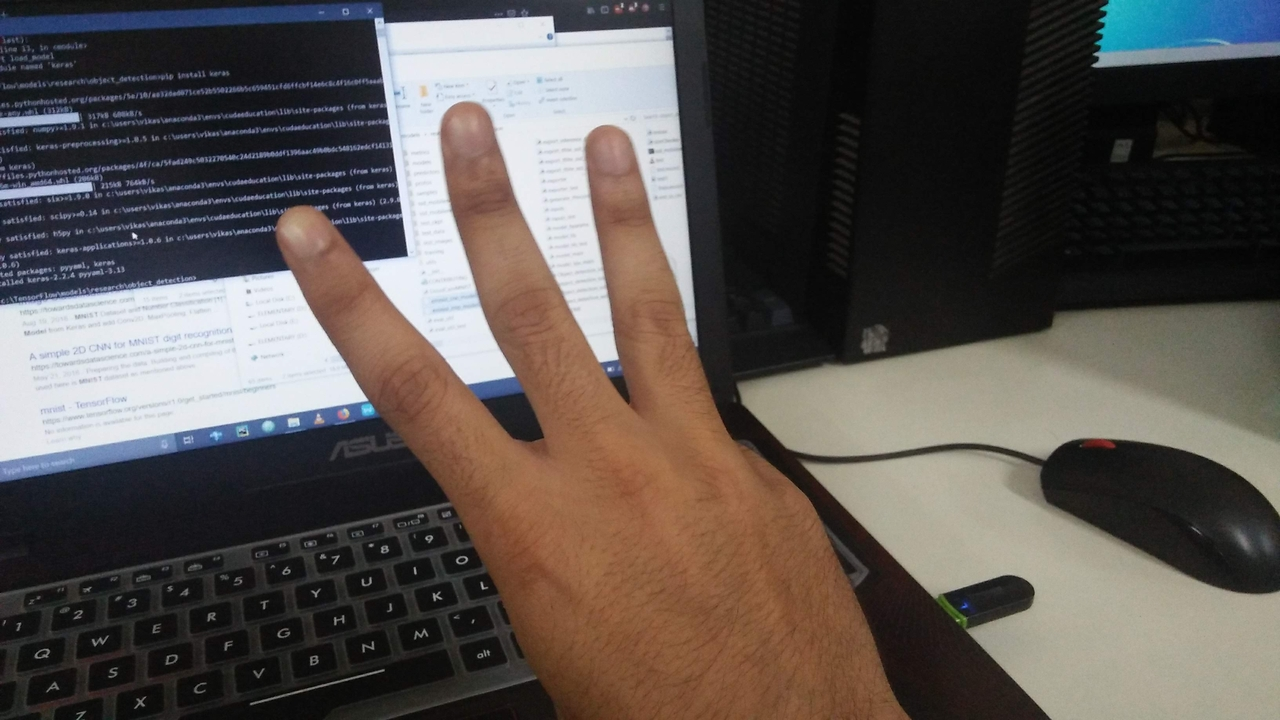fingertip: (264, 200, 338, 262), (430, 100, 496, 156), (578, 122, 640, 176)
